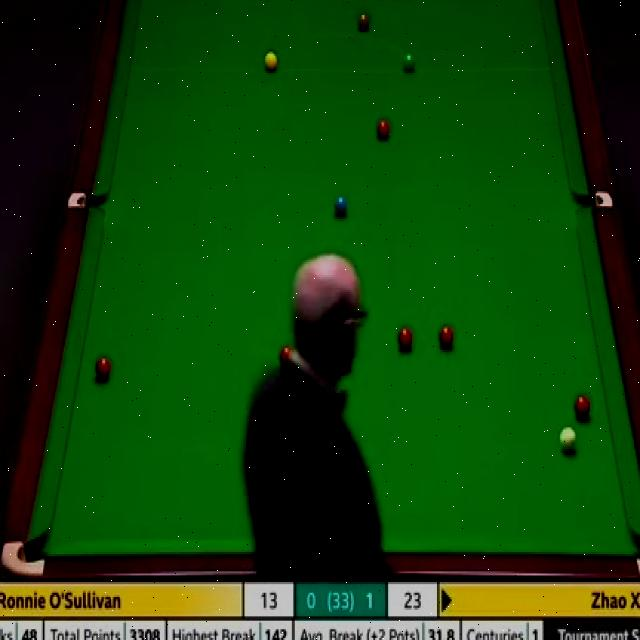blue-ball: (333, 195, 348, 216)
brown-ball: (357, 12, 369, 31)
green-ball: (401, 50, 416, 73)
red-ball: (93, 356, 112, 382), (396, 327, 413, 353), (573, 395, 591, 418), (439, 325, 453, 350), (375, 119, 390, 142), (278, 346, 290, 363)
white-ball: (558, 424, 578, 454)
yellow-ball: (263, 51, 277, 71)
